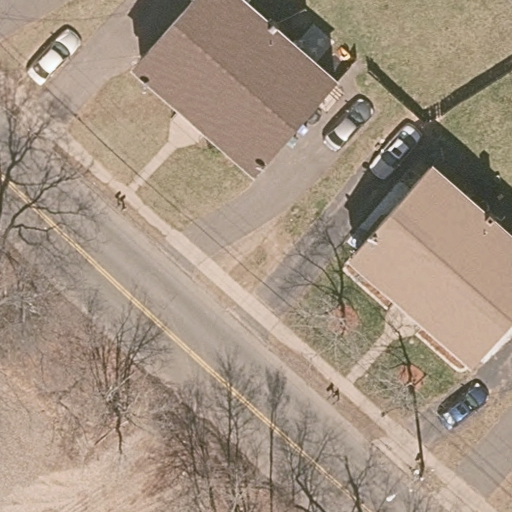DT: (385, 465, 434, 503)
